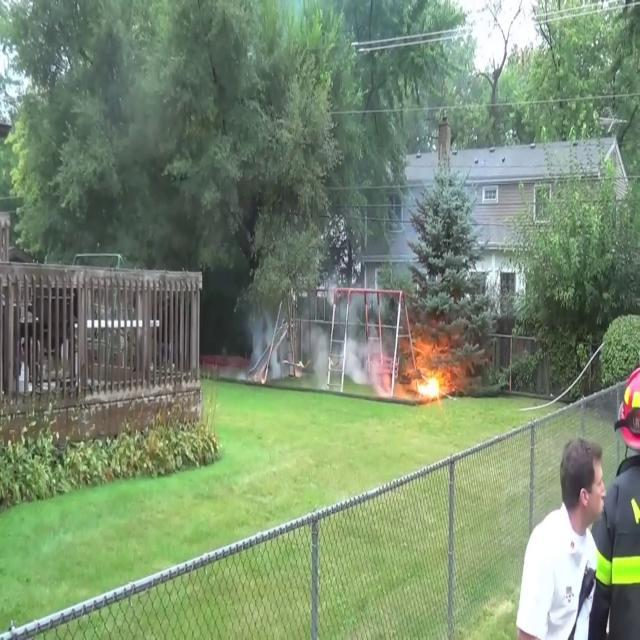Fire: (408, 362, 454, 403)
